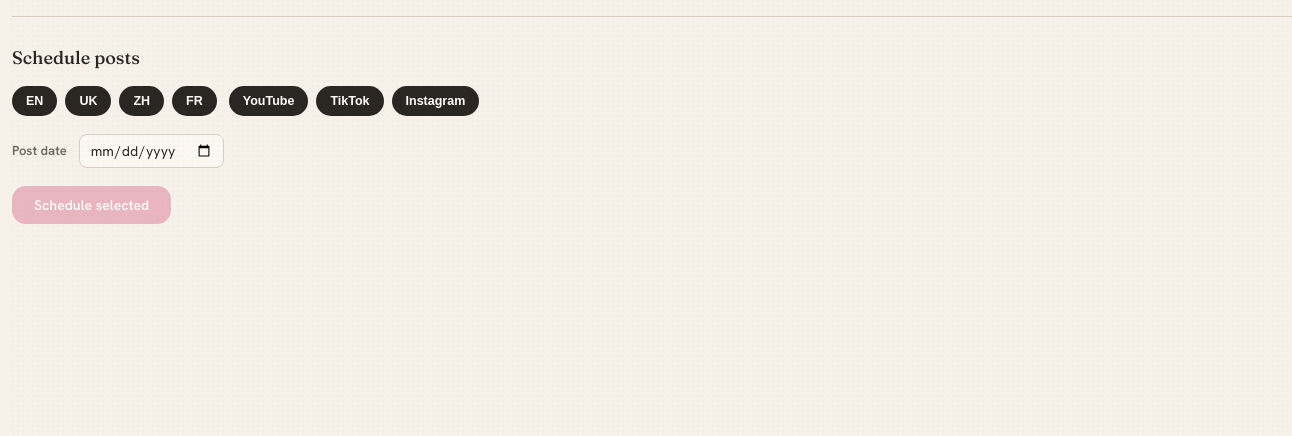
Test: EpisodeScheduler › shows validation error inline when createSchedule returns 409
This screenshot has width=1292, height=436.
Type "2025-07-04" into the date field labelled "Post date" at [151, 151], box [79,134,224,168]
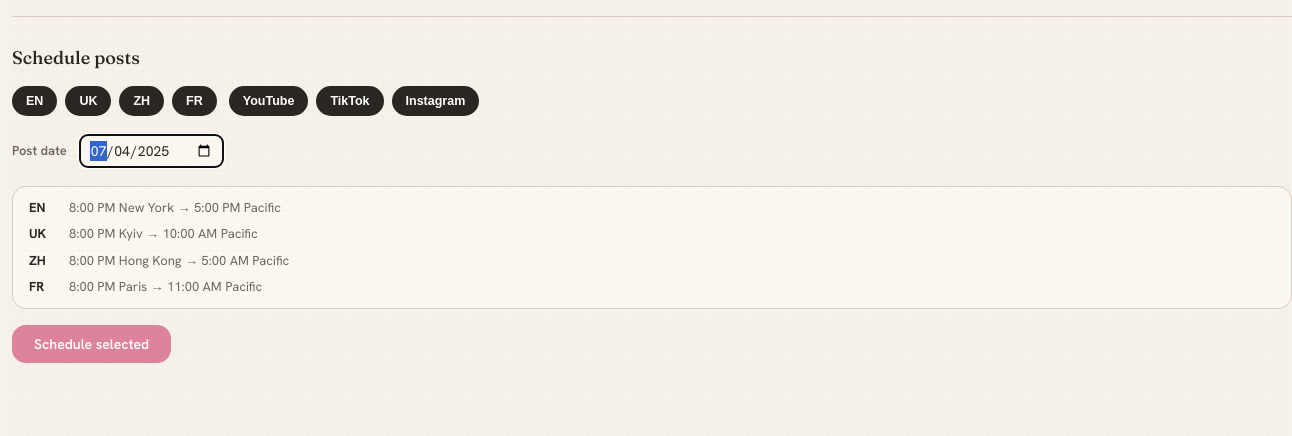
Click the button "Schedule selected" at [92, 344], box [12,325,171,363]
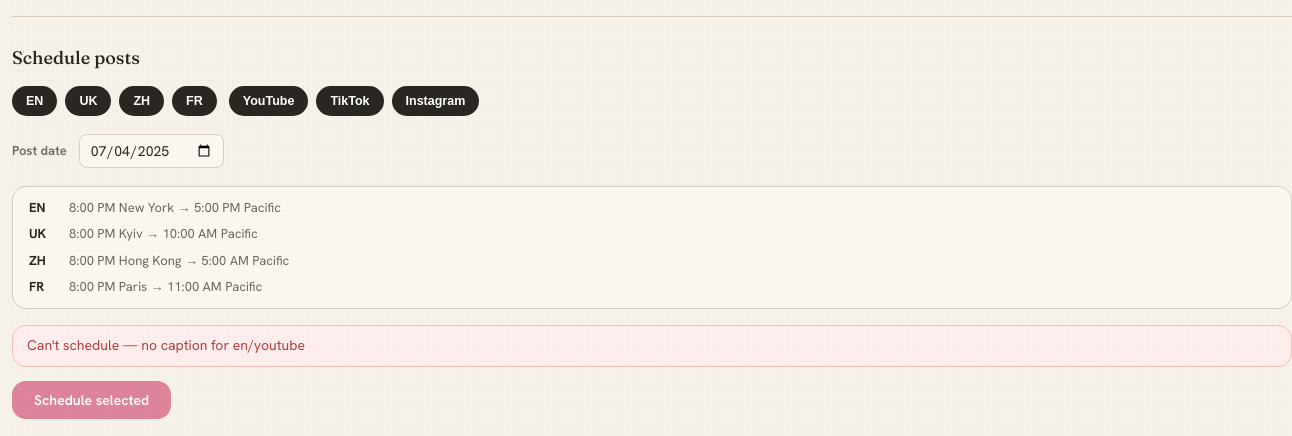
Check: the text "Can't schedule — no caption for en/youtube" is shown, box [12,325,1291,366]
